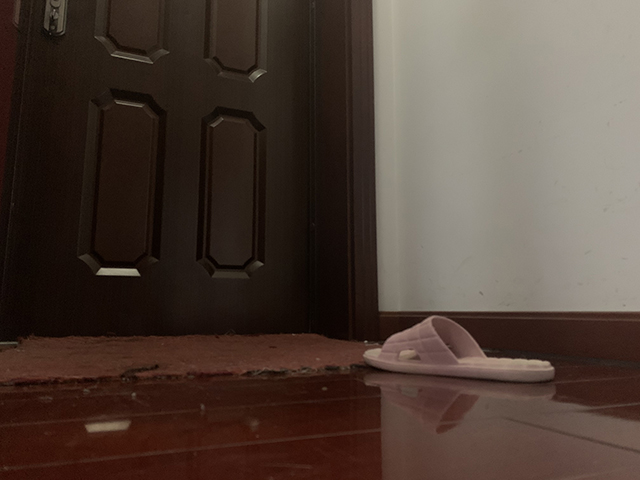carpet: (1, 333, 386, 385)
slippers: (361, 315, 556, 384)
